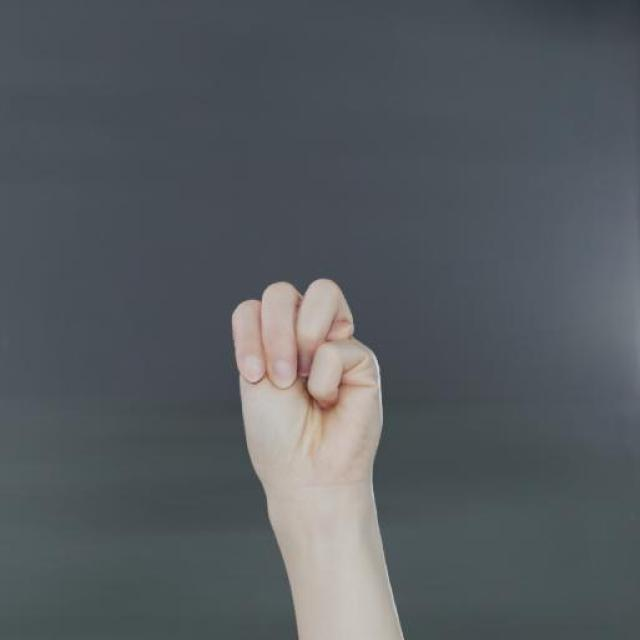M: (226, 277, 388, 493)
